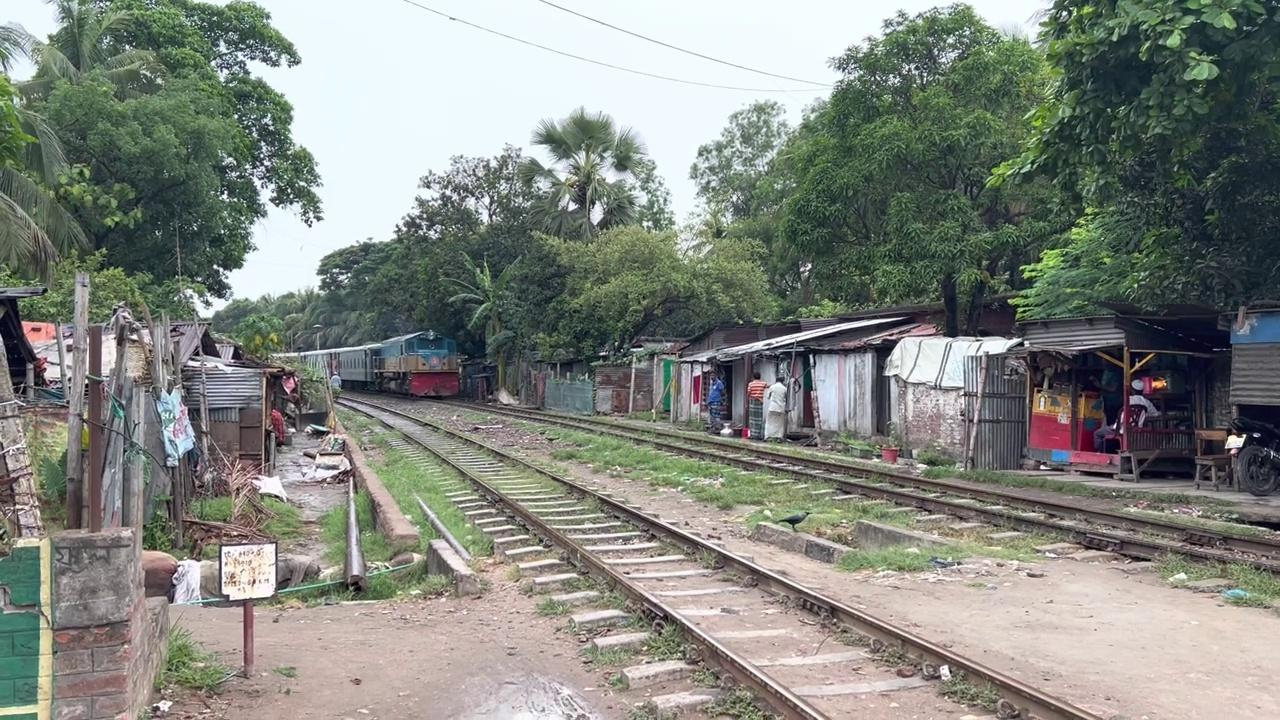Curb: (1224, 415, 1279, 496)
Fence: (762, 375, 790, 442), (706, 373, 725, 431)
Motorcycle: (432, 440, 1086, 720)
Pothole: (218, 540, 277, 601)
Potted-plant: (280, 330, 536, 412)
Railroad-crossing: (2, 0, 324, 326), (767, 1, 1077, 336), (515, 104, 649, 243)
